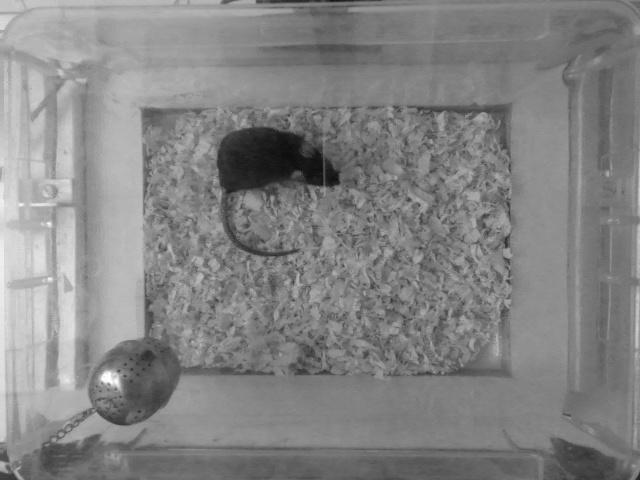mice: (222, 125, 341, 258)
